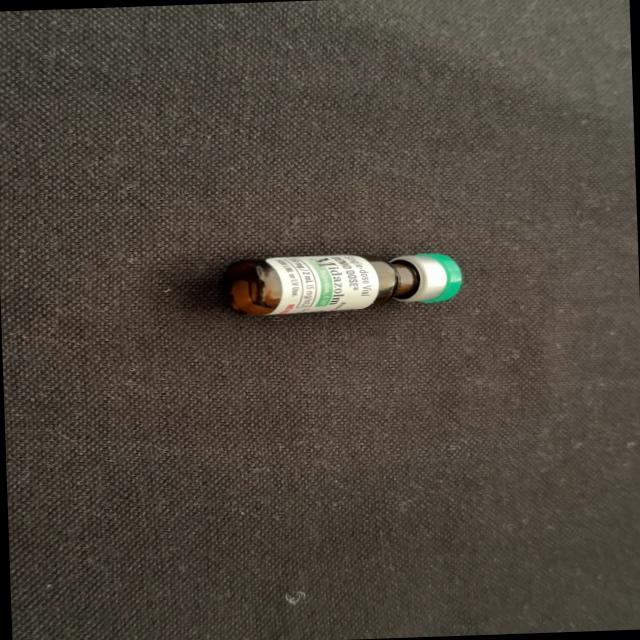midazolm: (225, 250, 457, 316)
